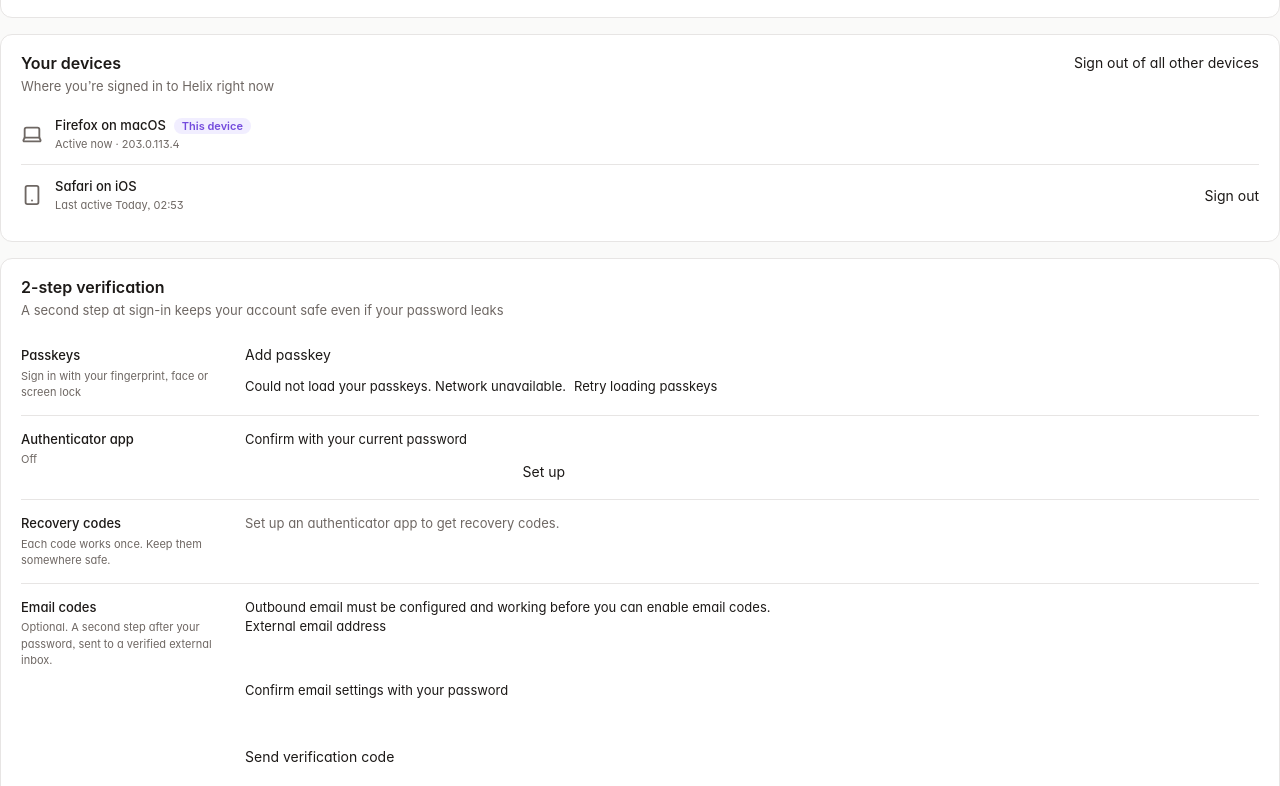
2-step verification › shows a passkey list failure instead of an empty list, and retries
(page scrolled)
Click the button "Retry loading passkeys": (646, 386) x1=574 y1=374 x2=717 y2=398
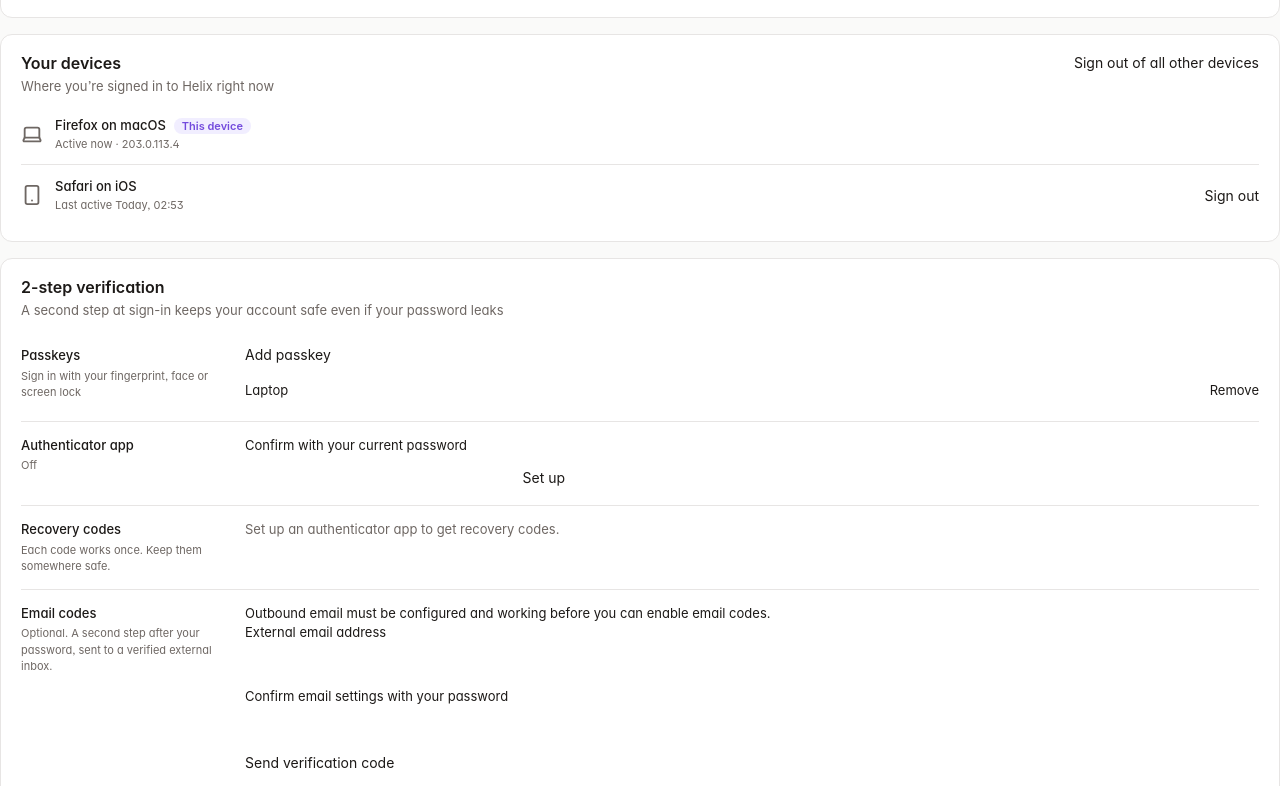
Check: the text "Laptop" is shown, box x1=245 y1=382 x2=288 y2=398
